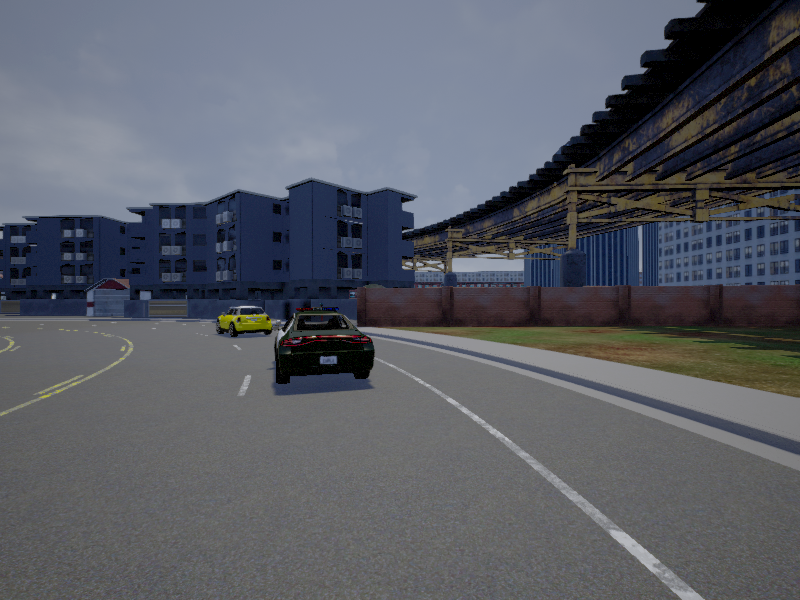Benign: (276, 308, 374, 388), (216, 306, 272, 336)
